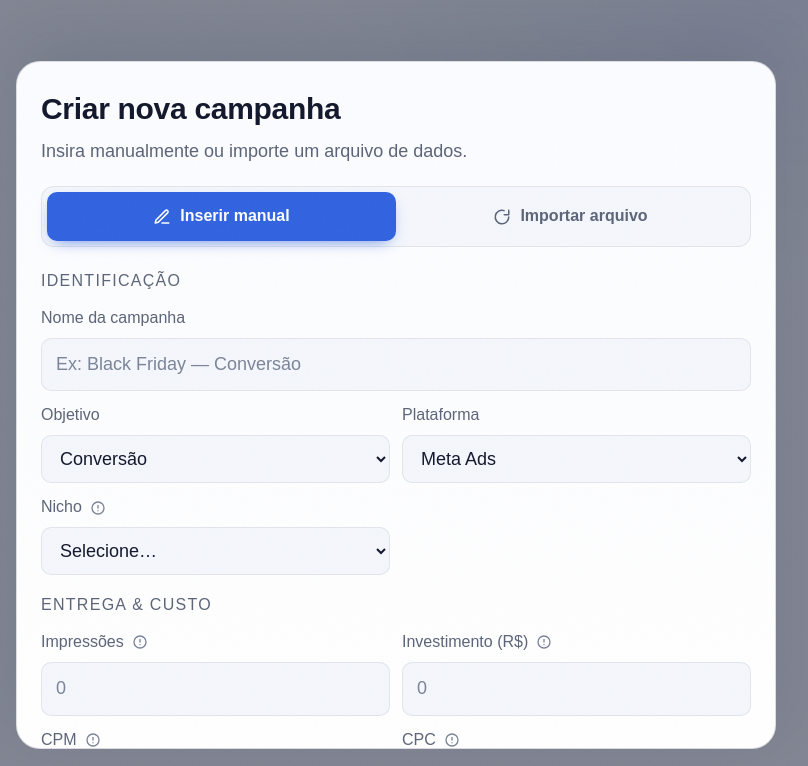
Test: P5 — contradição rejeitada pela API › mostra a explicação, marca os campos citados e não entrega a campanha
The image size is (808, 766).
Select "E-commerce / Varejo" in the dropdown below "Nicho" at x=216, y=551, box [41, 527, 390, 575]
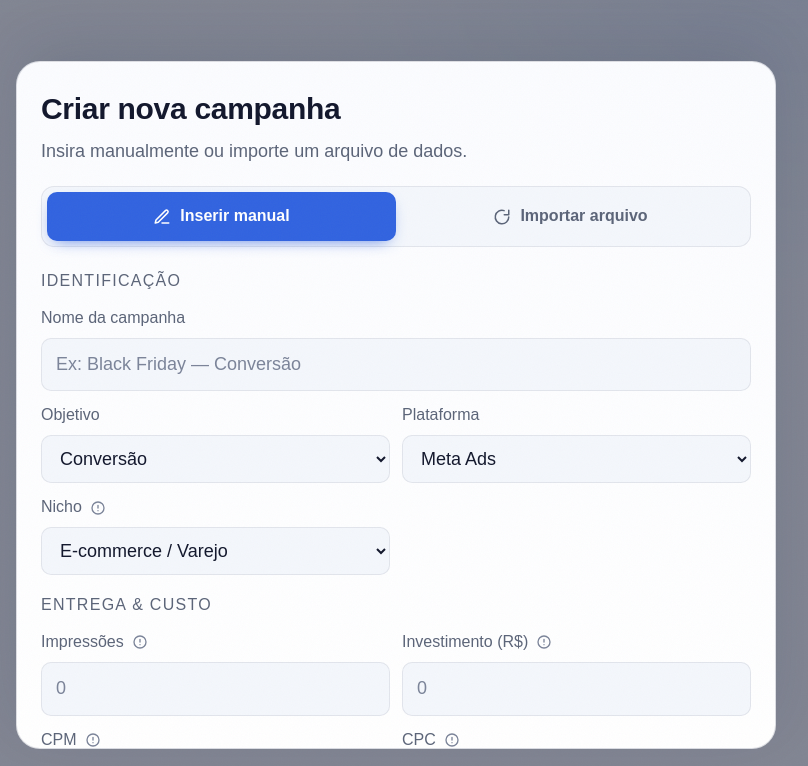
Type "100" into the field with placeholder "0" below "Impressões" at x=216, y=689, box [41, 662, 390, 716]
(page scrolled)
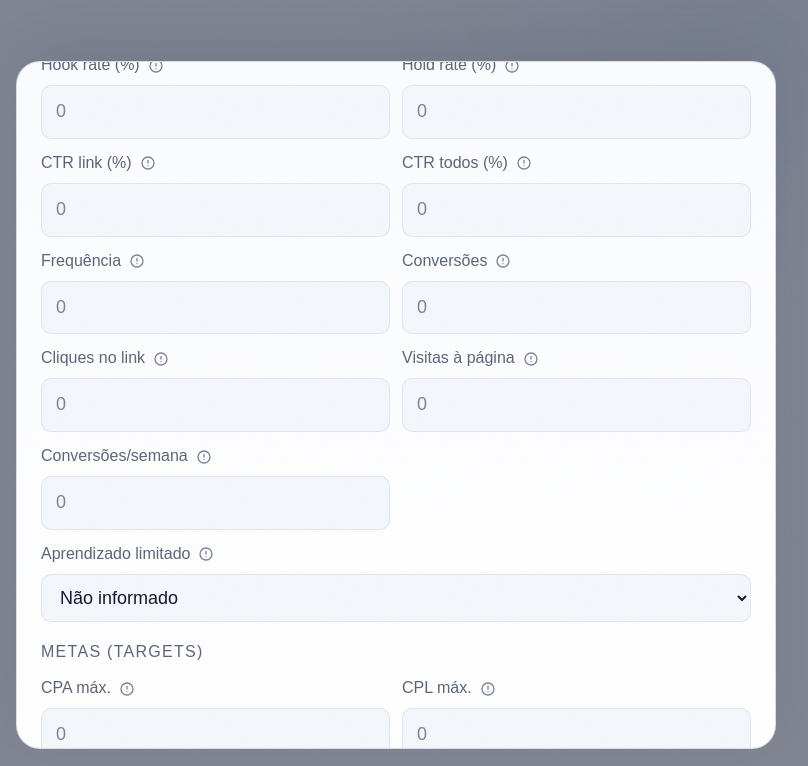
Type "50" into the field with placeholder "0" below "Cliques no link" at x=216, y=405, box [41, 378, 390, 432]
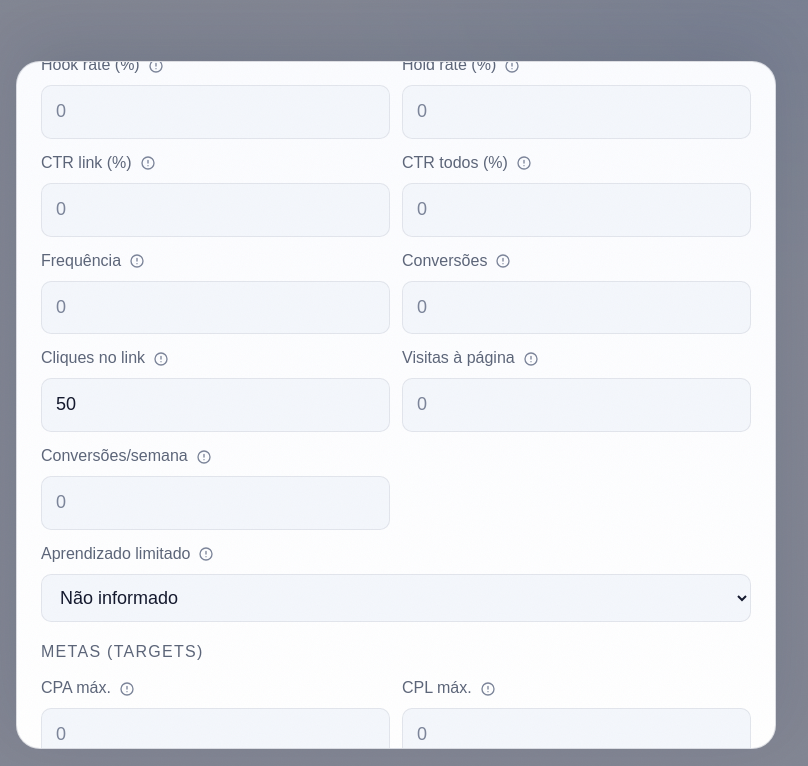
Type "0,4" into the field with placeholder "0" below "CTR link (%)" at x=216, y=210, box [41, 183, 390, 237]
(page scrolled)
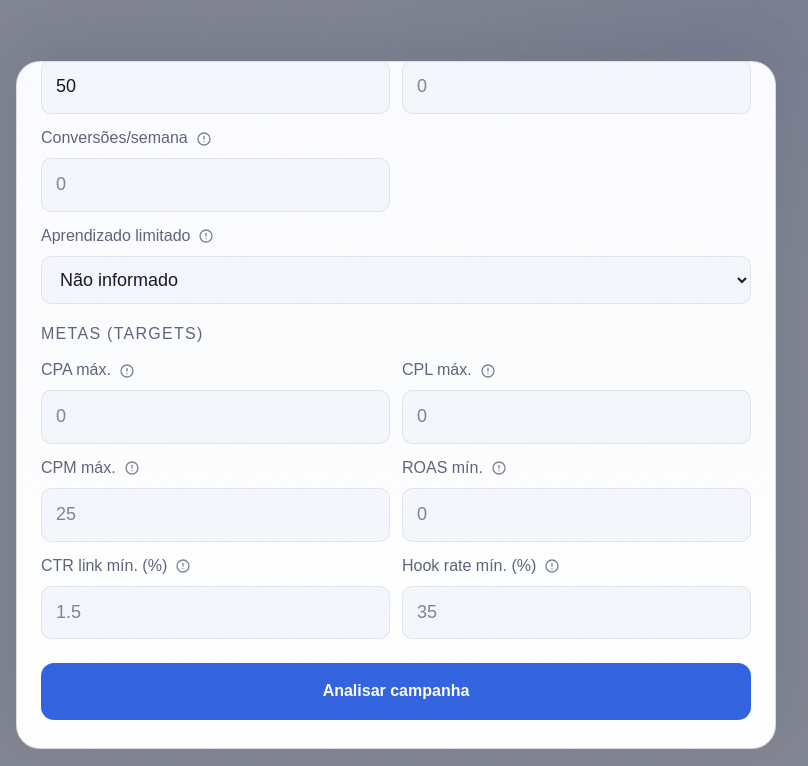
Click the button "Analisar campanha" at x=396, y=692, box [41, 664, 751, 720]
(page scrolled)
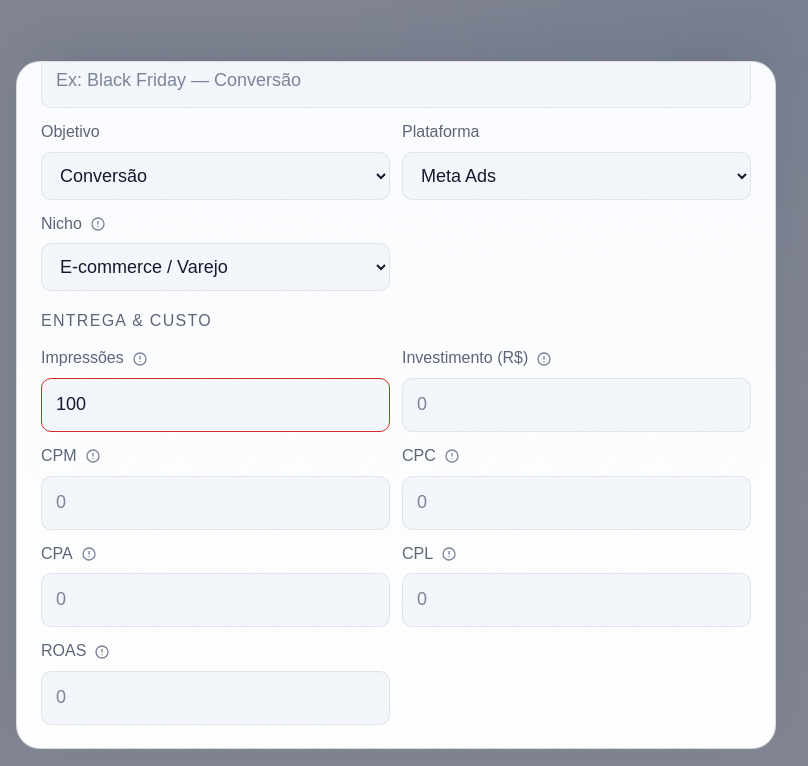
Expected: the 2nd field holds "100", [41, 378, 390, 432]
